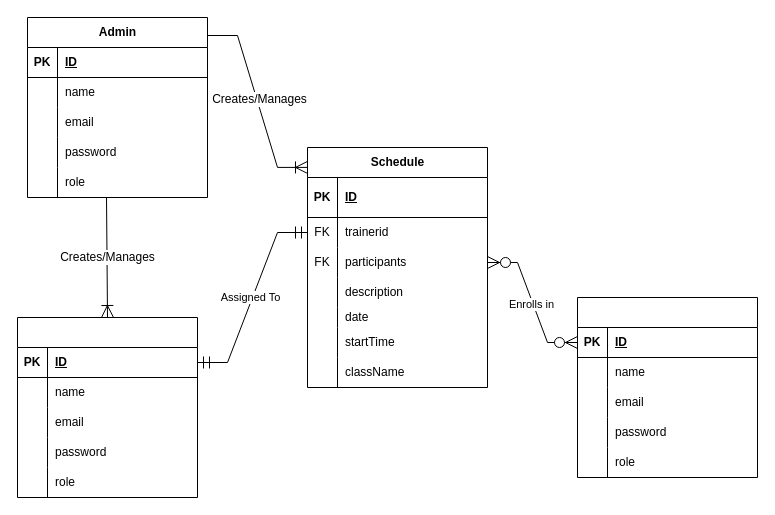
This 775x515 diagram has some shape labels left out. Each missing label, with the box of its shape:
Trainee: (576, 296, 758, 478)
Trainer: (16, 316, 198, 498)
